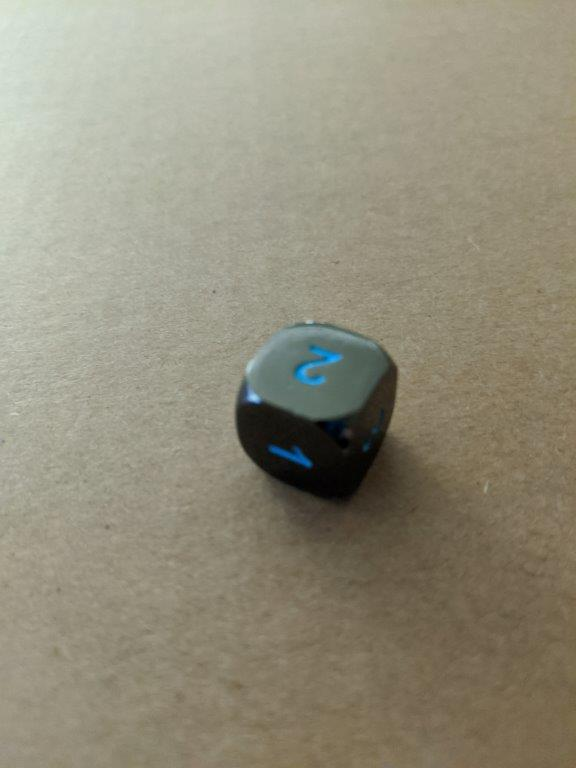d6-2: (235, 323, 400, 505)
